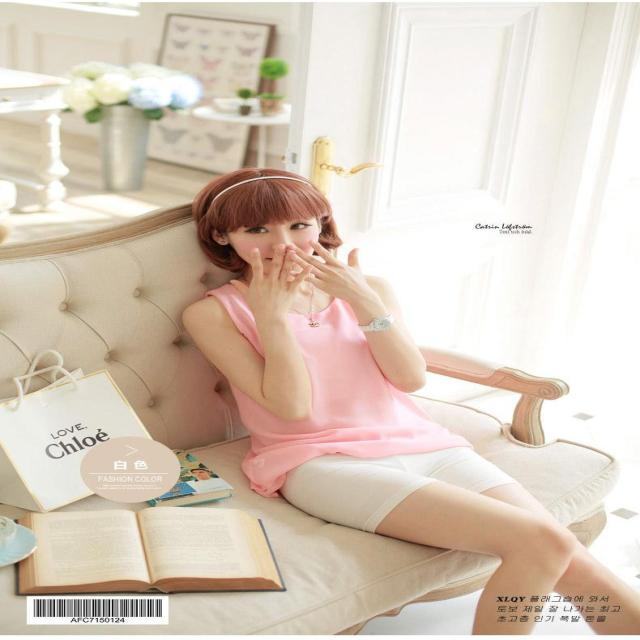short-sleeve-top: (178, 258, 506, 451)
shorts: (288, 457, 524, 527)
